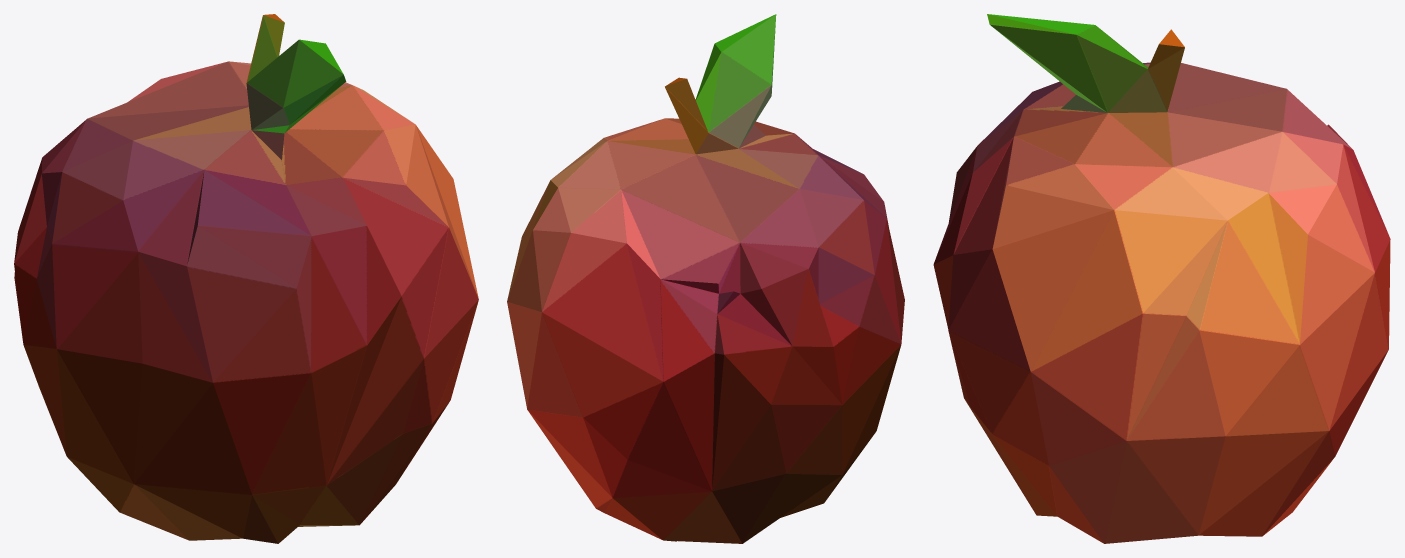
Rendered from apple_0817065138_refine.fbx.
3 renders of one model, left to right at view 1: azimuth 30°, elevation 25°; view 2: azimuth 150°, elevation 25°; view 3: azimuth 270°, elevation 25°, orthographic. The views are drawn at different scales.
Parts seen in each view (by area): view 1: Mesh_0; view 2: Mesh_0; view 3: Mesh_0.
Part boxes in pixels (box(x1,y1,x2,y2)): Mesh_0: box(14, 14, 478, 543); Mesh_0: box(507, 14, 904, 543); Mesh_0: box(933, 14, 1390, 543).
Bounding box in the file's own units: 150 × 180 × 146.
Materials: 1 (1 with a texture image).
